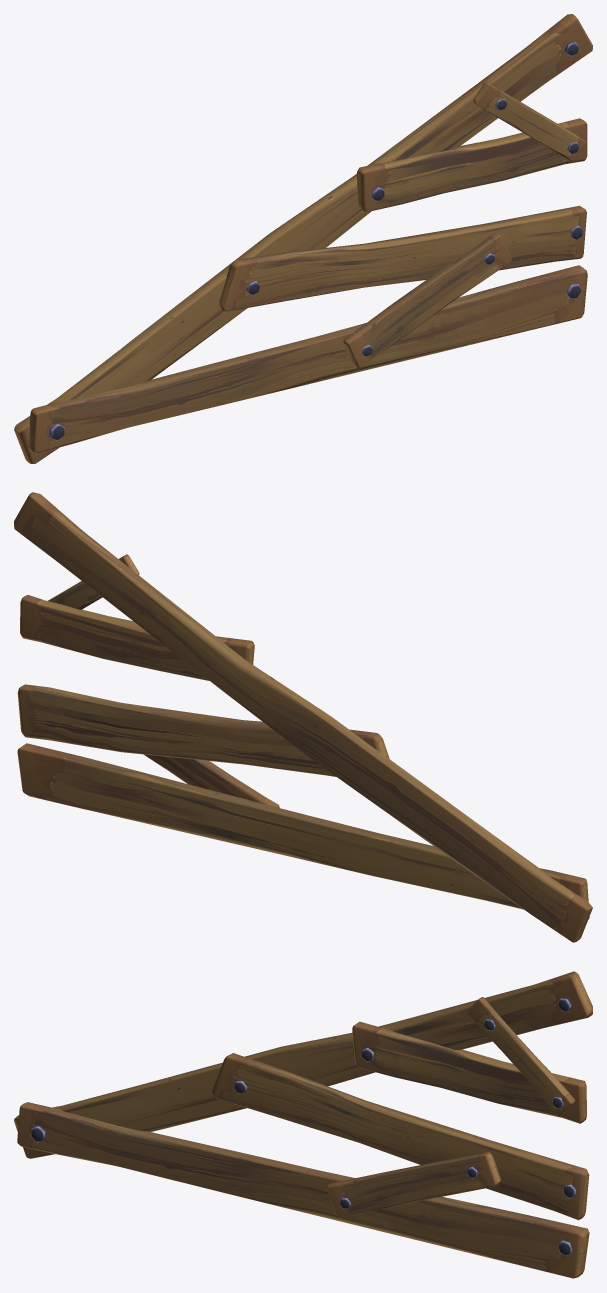
Rendered from SM_MOD_planks_deco_town_04.fbx.
The picture shows the model from 3 angles, top to bottom: view 1: azimuth 30°, elevation 25°; view 2: azimuth 150°, elevation 25°; view 3: azimuth 330°, elevation 25°; orthographic projection.
Visible parts, largest first — view 1: SM_MOD_planks_deco_town_04_LOD0; view 2: SM_MOD_planks_deco_town_04_LOD0; view 3: SM_MOD_planks_deco_town_04_LOD0.
Boxes of the visible parts, left/top/right/bottom form: SM_MOD_planks_deco_town_04_LOD0: left=14, top=14, right=592, bottom=463; SM_MOD_planks_deco_town_04_LOD0: left=14, top=492, right=592, bottom=942; SM_MOD_planks_deco_town_04_LOD0: left=14, top=971, right=592, bottom=1278.
Size of what is drawn, in the model's own units: 423 by 222 by 25.32.
